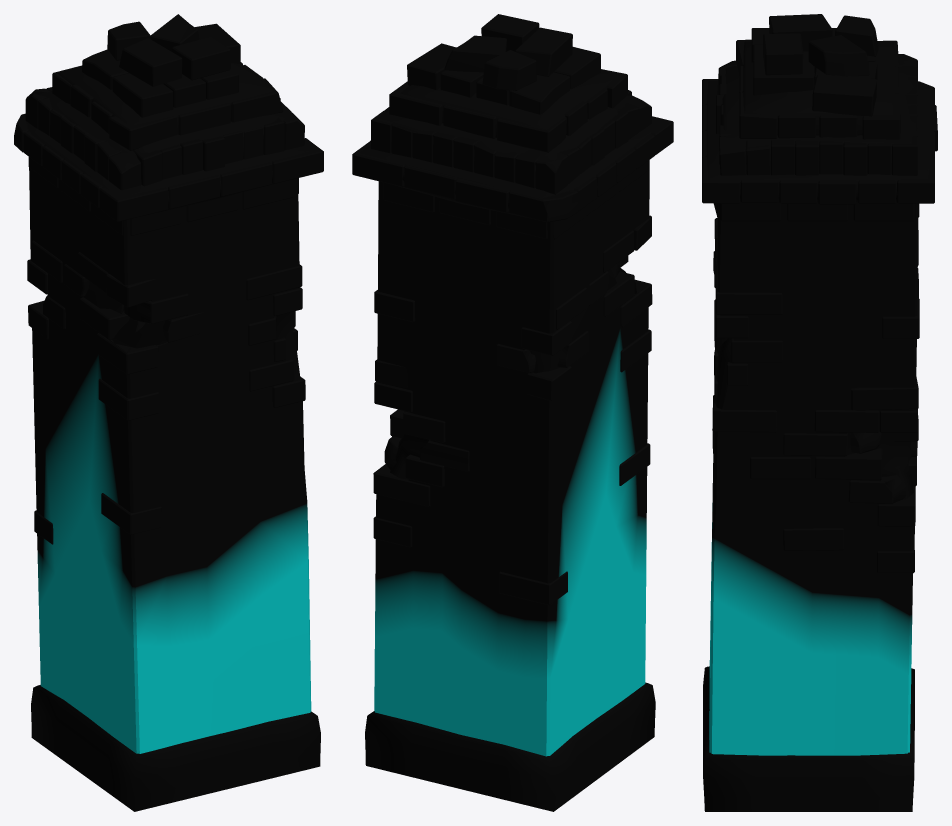
The model's file is Com_Fence4.fbx.
The picture shows the model from 3 angles, left to right: view 1: azimuth 30°, elevation 25°; view 2: azimuth 150°, elevation 25°; view 3: azimuth 270°, elevation 25°; orthographic projection. The views are drawn at different scales.
Visible parts, largest first — view 1: SM_COM_Pillar01.mo; view 2: SM_COM_Pillar01.mo; view 3: SM_COM_Pillar01.mo.
Boxes of the visible parts, left/top/right/bottom form: SM_COM_Pillar01.mo: left=14, top=14, right=323, bottom=811; SM_COM_Pillar01.mo: left=352, top=14, right=673, bottom=811; SM_COM_Pillar01.mo: left=702, top=14, right=937, bottom=811.
Size of the model in its own units: 122 by 395 by 116.
